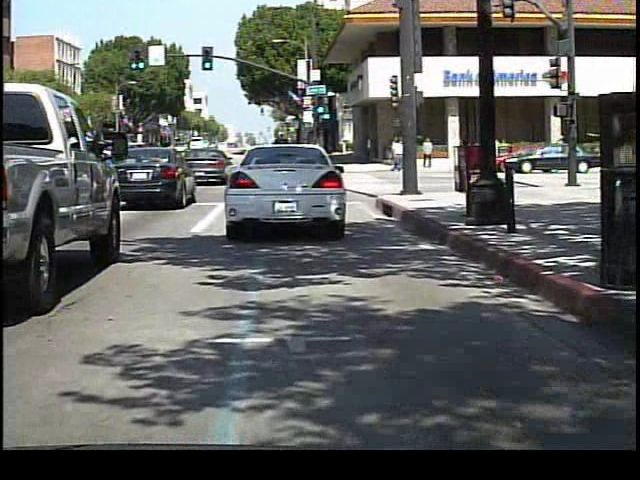person: (484, 135, 504, 172), (420, 136, 436, 169), (390, 138, 403, 176)
